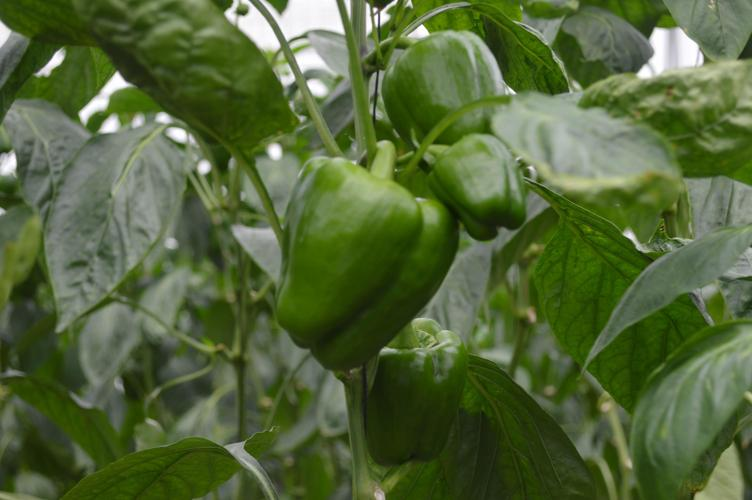BellPepper: (273, 148, 446, 387), (425, 126, 550, 240), (377, 33, 505, 142)
